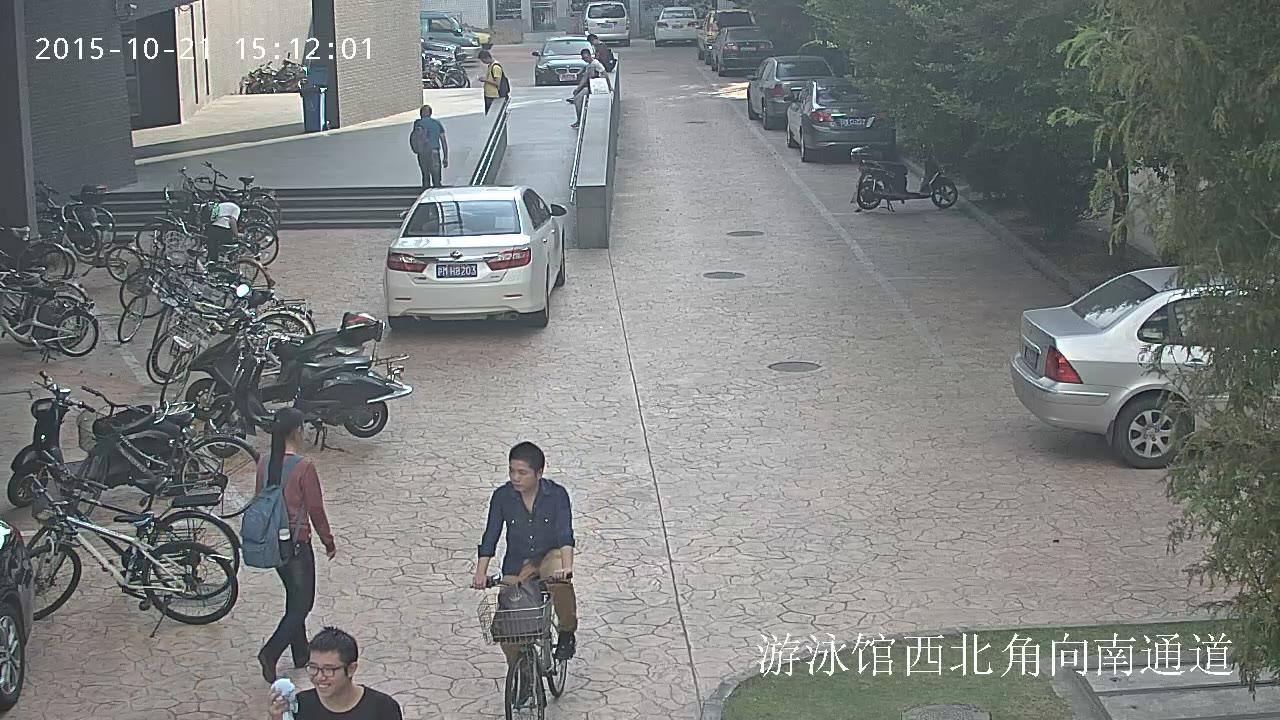person: (473, 440, 579, 720), (474, 442, 578, 700), (239, 405, 334, 684), (265, 625, 401, 720), (566, 34, 615, 103), (570, 49, 611, 128), (409, 105, 447, 189), (204, 196, 241, 260), (476, 51, 509, 116)
